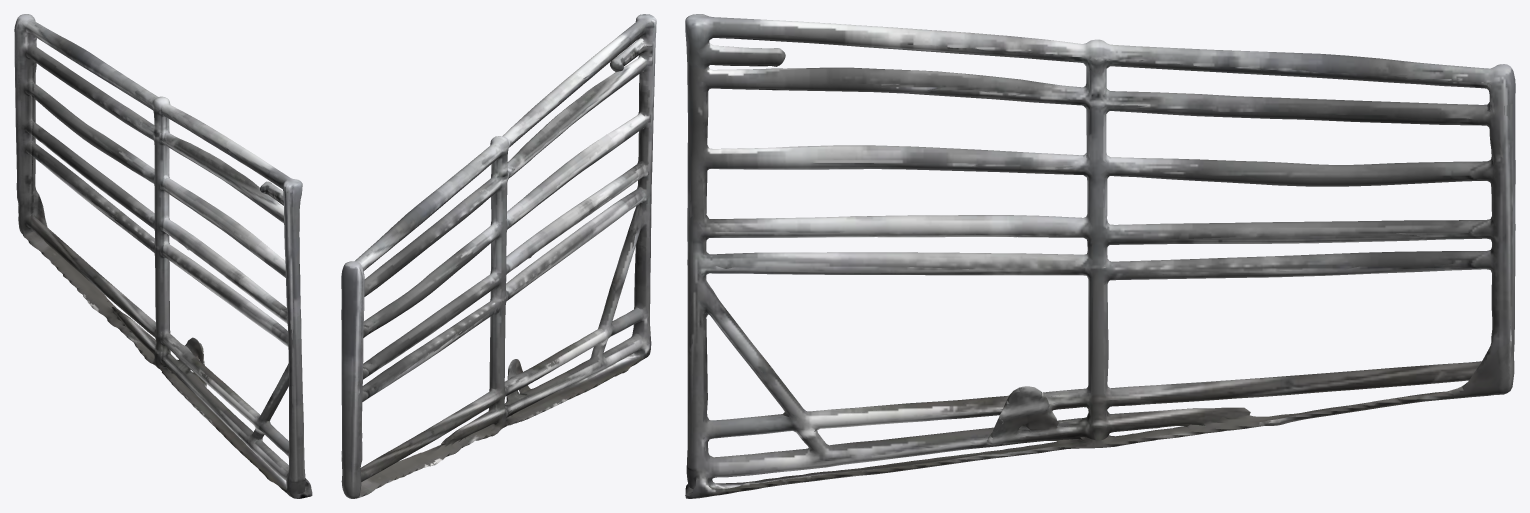
The model's file is cattle-race-panel.glb.
The picture shows the model from 3 angles, left to right: view 1: azimuth 30°, elevation 25°; view 2: azimuth 150°, elevation 25°; view 3: azimuth 270°, elevation 25°; orthographic projection. The views are drawn at different scales.
Parts seen in each view (by area): view 1: cowninja-cattle-race-panel; view 2: cowninja-cattle-race-panel; view 3: cowninja-cattle-race-panel.
Boxes of the visible parts, x1,y1,x2,y2 form: cowninja-cattle-race-panel: (14,14,312,498); cowninja-cattle-race-panel: (341,14,656,498); cowninja-cattle-race-panel: (685,14,1515,498).
Size of the model in its own units: 0.133 by 1.56 by 2.5.
1 material, 1 textured.
